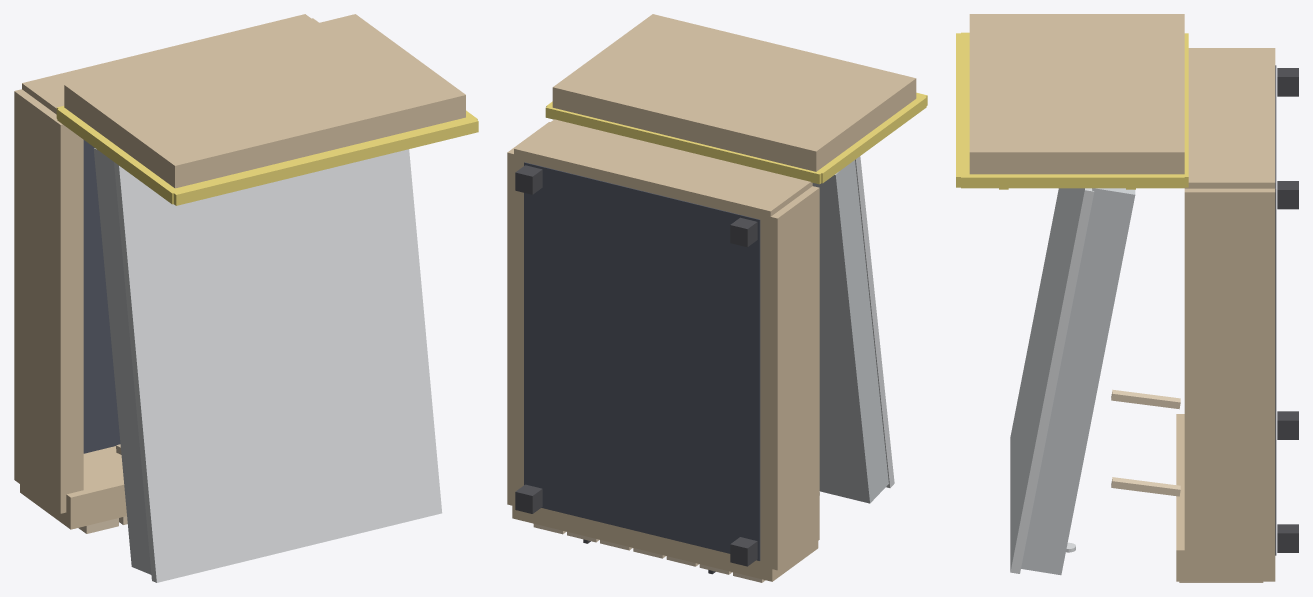
The model's file is lift-up-storage-bed.glb.
3 renders of one model, left to right at view 1: azimuth 30°, elevation 25°; view 2: azimuth 150°, elevation 25°; view 3: azimuth 270°, elevation 25°, orthographic. The views are drawn at different scales.
Parts seen in each view (by area): view 1: Mattress quilted top, Left upholstered side rail, Lifted mattress upholstered base, Headboard gold top rail, Storage cavity floor; view 2: Storage cavity floor, Left upholstered side rail, Lifted mattress upholstered base, Headboard gold top rail, Footboard black accent 1, Mattress quilted top, Footboard padded panel 1; view 3: Left upholstered side rail, Lifted mattress upholstered base, Mattress quilted top, Headboard gold top rail, Footboard black accent 1, Footboard padded panel 1, Storage cavity floor.
Boxes of the visible parts, x1,y1,x2,y2 form: Mattress quilted top: [114, 149, 442, 582]; Left upholstered side rail: [14, 14, 465, 529]; Lifted mattress upholstered base: [93, 148, 151, 574]; Headboard gold top rail: [56, 106, 478, 205]; Storage cavity floor: [83, 140, 120, 453]; Storage cavity floor: [524, 162, 760, 560]; Left upholstered side rail: [507, 14, 916, 581]; Lifted mattress upholstered base: [812, 160, 888, 503]; Headboard gold top rail: [545, 92, 927, 184]; Footboard black accent 1: [515, 165, 757, 574]; Mattress quilted top: [819, 156, 894, 495]; Footboard padded panel 1: [533, 524, 765, 582]; Left upholstered side rail: [969, 14, 1275, 581]; Lifted mattress upholstered base: [1021, 188, 1135, 575]; Mattress quilted top: [1010, 188, 1094, 573]; Headboard gold top rail: [956, 32, 1188, 189]; Footboard black accent 1: [1277, 68, 1298, 552]; Footboard padded panel 1: [1111, 389, 1263, 582]; Storage cavity floor: [1275, 65, 1276, 555].
Bounding box in the file's own units: 1.6 × 2.27 × 1.59.
